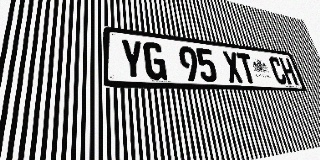5: (195, 48, 219, 82)
9: (178, 45, 201, 82)
C: (268, 56, 288, 85)
G: (143, 41, 168, 80)
H: (279, 58, 299, 85)
T: (236, 52, 258, 84)
X: (222, 51, 244, 83)
Y: (120, 38, 145, 80)
